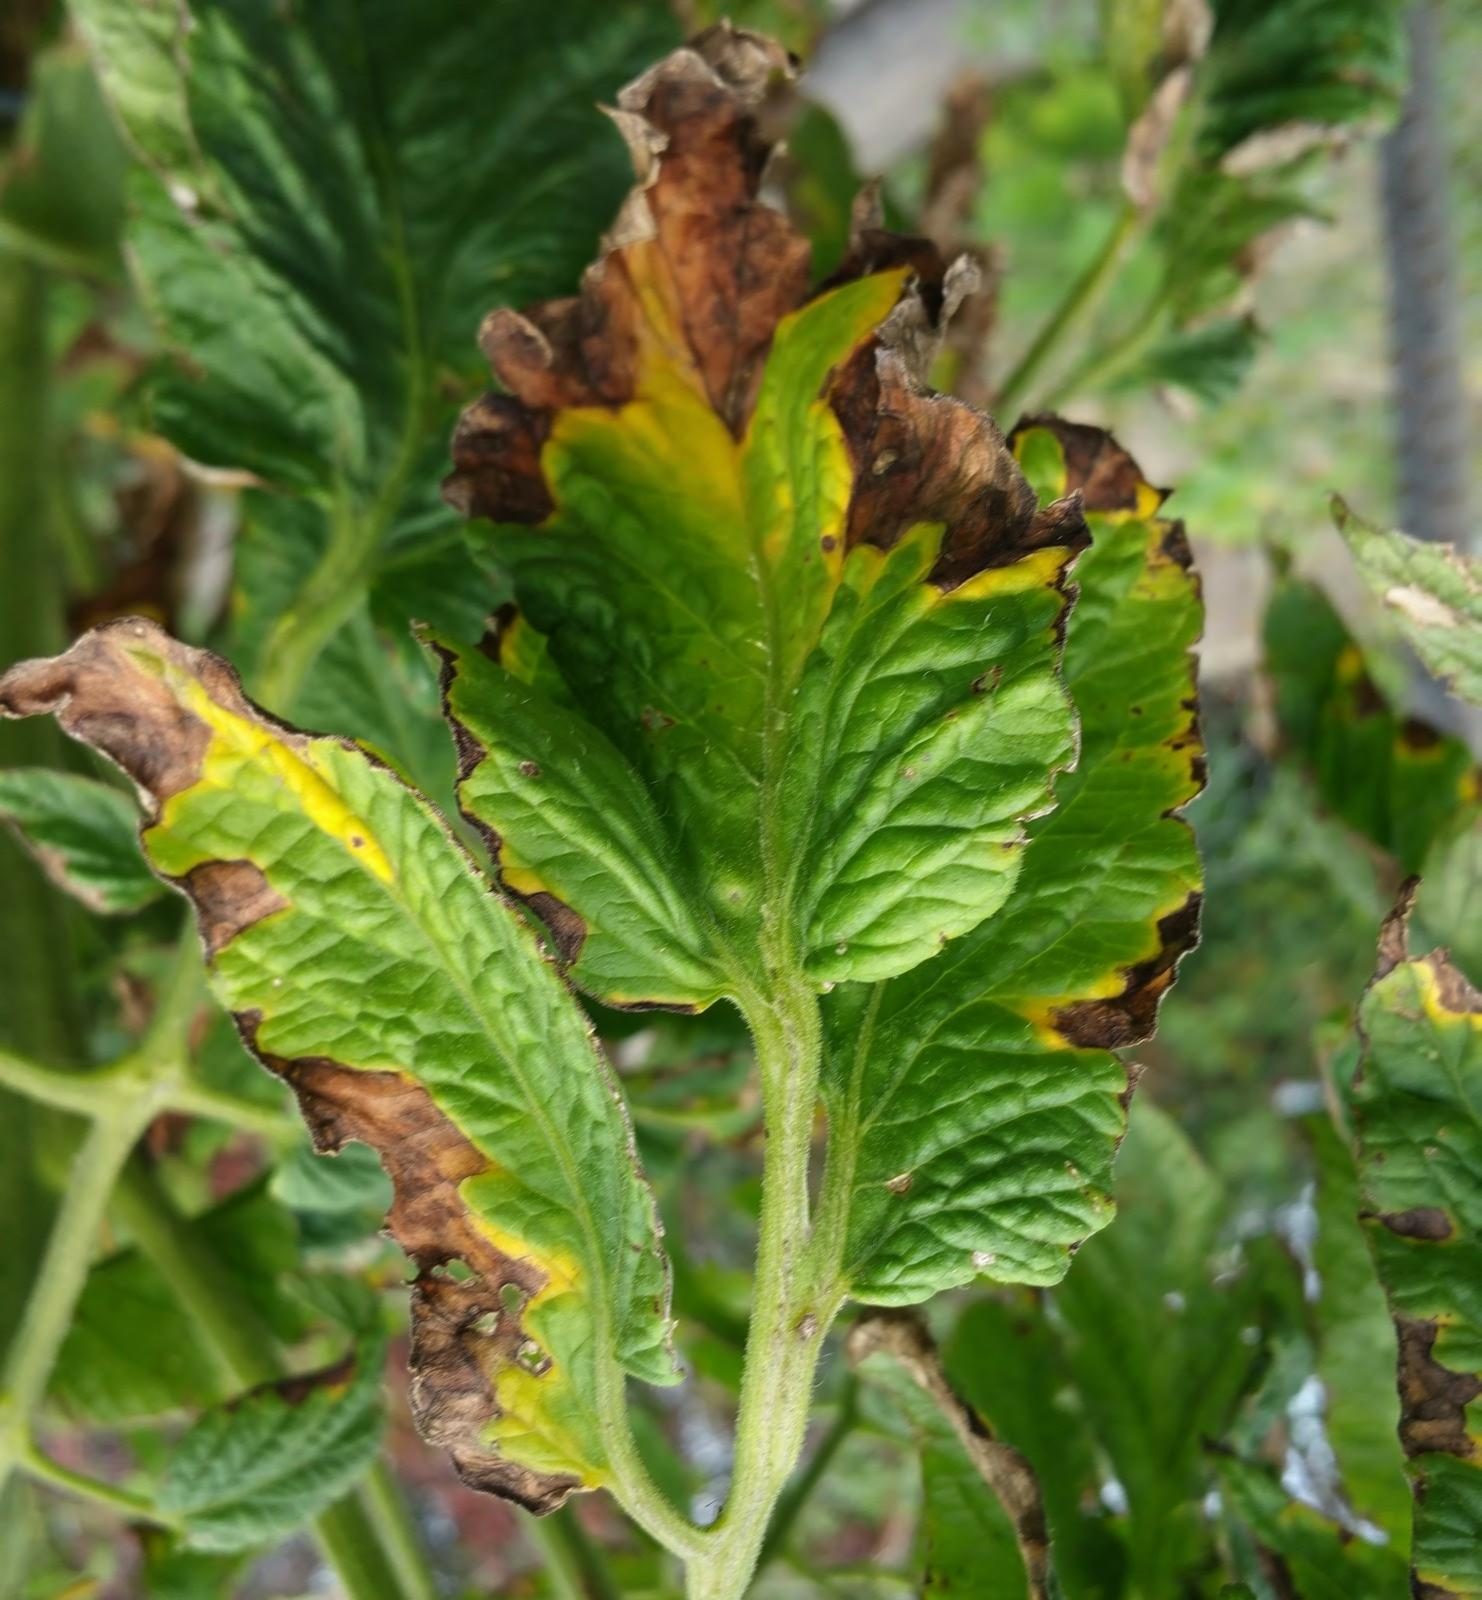Tomato leaf bacterial spot: (452, 67, 1092, 1056), (37, 596, 679, 1551), (768, 396, 1254, 1329)
